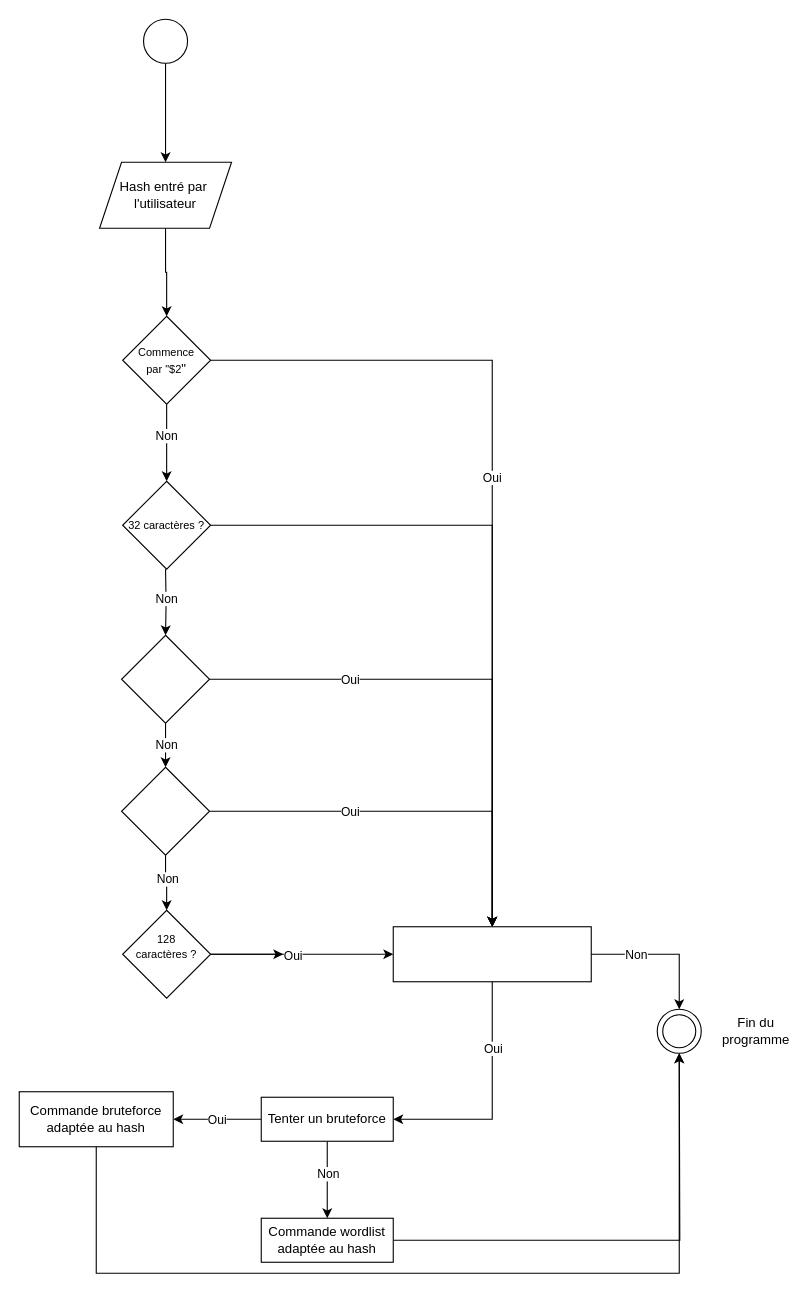
The diagram is 809 pixels wide and 1301 high, and some of its shapes have lost their labels. Here are the shapes that lost their labels. From the top down, the centre of each, then its label:
point 165,40: Début
point 165,678: 40 caractères ?
point 165,810: 64 caractères ?
point 491,954: Demander à l'utilisateur si il veut tenter un crackage
